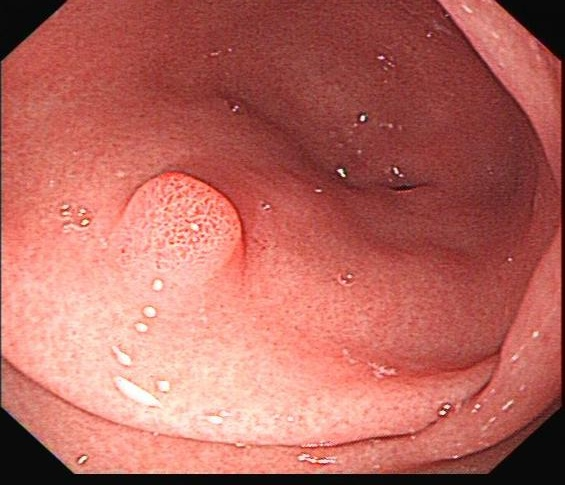Polyp: (118, 165, 253, 287)
